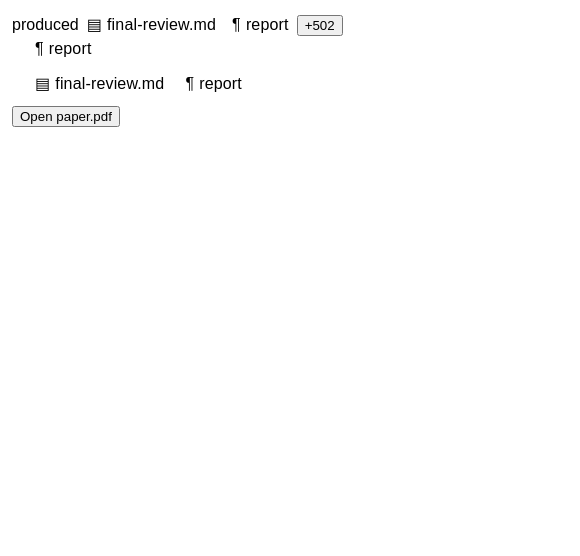
Test: produced files › groups a large artifact inventory by step and output, with counts and outputs first
The width and height of the screenshot is (580, 556).
Click the button named "more produced files".
click(320, 26)  # box [297,15,343,36]
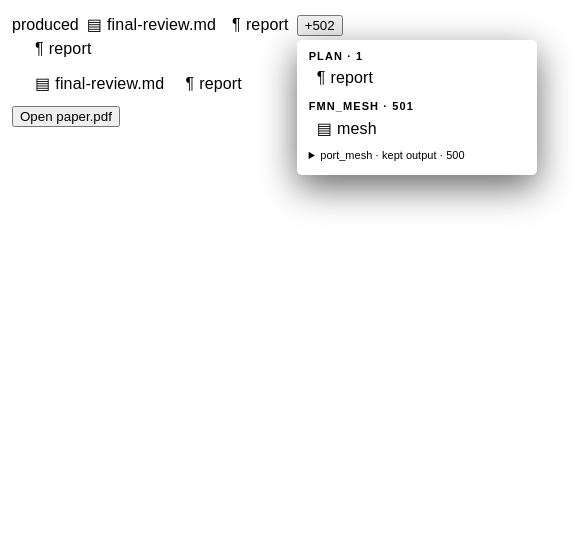
Expected: the text "fmn_mesh · 501" is shown, [309,100,414,112]
Click the heading "port_mesh · kept output · 500".
click(392, 155)  # box [320,149,465,161]
(page scrolled)
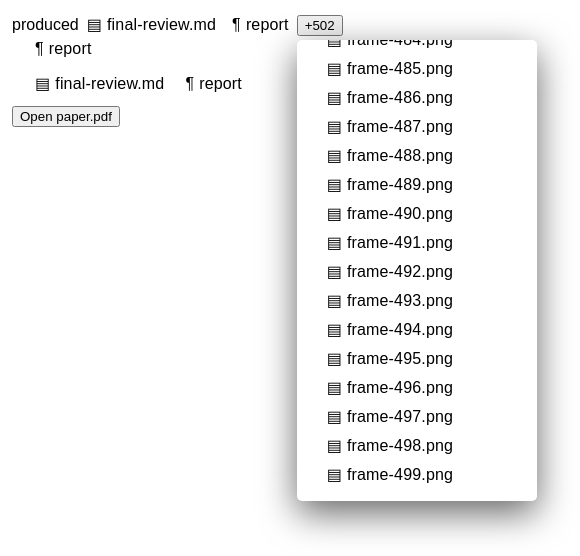
Expected: the menu item with test id "produced-chip-artifact:fmn_mesh/1/outputs/port_mesh/mesh/frame-499.png" is shown, [319,462,461,487]
